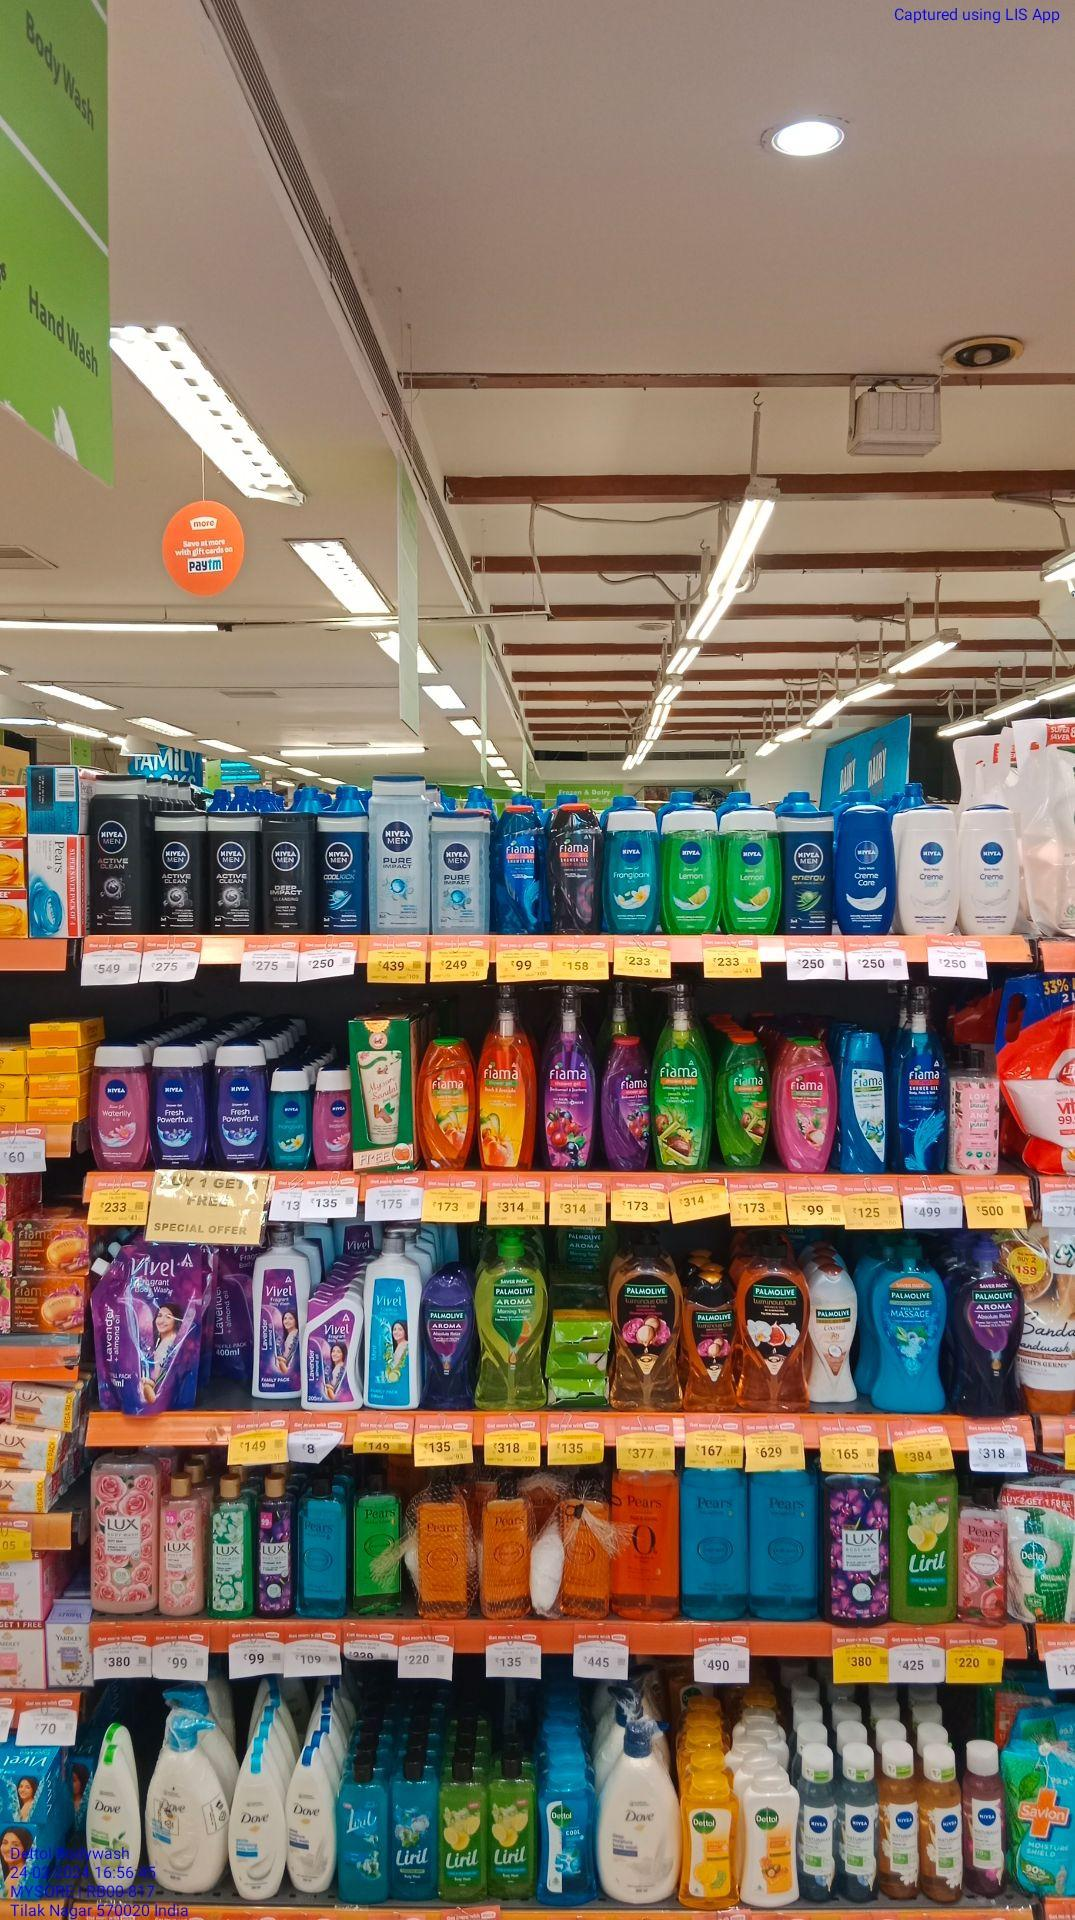Dettol_Bodywash_Cool: (538, 1766, 598, 1907)
Dettol_Bodywash_Refresh: (685, 1766, 741, 1908)
Dettol_Nourish_Body_Wash_250ML: (747, 1768, 801, 1907)
Dove_Deep_Moisture_Body_Wash_250ML: (290, 1753, 338, 1891)
Dove_Gentle_Exfoliating_Body_Wash_250ML: (230, 1756, 286, 1902)
Dove_Refreshing_Body_Wash_250ML: (86, 1739, 145, 1891)
Fiama_Shower_Gel_Lemongrass_and_Jojoba_250ML: (712, 1033, 770, 1166)
Fiama_Shower_Gel_Patchouli_and_Macadamia_250ML: (776, 1036, 836, 1174)
Fiama_Shower_Gel_Peach_and_Avocado_250ML: (417, 1040, 476, 1171)
Liril_Cooling_Mint_Body_Wash_250ML: (389, 1756, 437, 1902)
Liril_Lime_and_Tea_Tree_Oil_Body_Wash_250ML: (488, 1760, 534, 1902), (439, 1760, 484, 1899)
Lux_Black_Orchid_Scent_and_Juniper_Oil_Body_Wash_245ML: (259, 1481, 297, 1615)
Lux_Body_Wash_Skin_Detox_Freesia_Scent_and_Alove_Vera_245ML: (211, 1474, 256, 1618)
Nivea_Creme_Care_Body_Wash_250ML: (836, 799, 896, 939)
Nivea_Creme_Soft_Body_Wash_250ML: (902, 800, 960, 934), (964, 800, 1017, 935)
Nivea_Shower_Gel_Frangipani_and_Oil_250ML: (601, 808, 661, 932)
Nivea_Shower_Gel_Fresh_Powerfruit_250ML: (210, 1046, 268, 1174), (150, 1043, 206, 1168)
Nivea_Shower_Gel_Lemon_and_Oil_250ML: (722, 808, 783, 931), (665, 810, 720, 931)
Nivea_Shower_Gel_Waterlily_and_Oil_250ML: (92, 1040, 146, 1170)
Palmolive_Aroma_Relax_250ML: (422, 1275, 474, 1412)
Palmolive_Coconut_Joy_Exfoliating_Body_Wash_250ML: (809, 1262, 856, 1404)
Palmolive_Luminous_Oils_Invigorating_Macadamia_Oil_With_Peony_250ML: (682, 1262, 739, 1411)
Pears_Pure_Glycerin_and_Lemon_Flower_Extracts_Body_Wash_250ML: (352, 1476, 401, 1607)
Pears_Pure_Glycerin_and_Mint_Extracts_Body_Wash_250ML: (301, 1476, 347, 1619)
